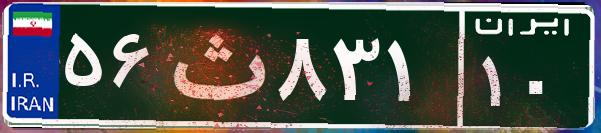0: (525, 38, 570, 115)
1: (385, 28, 445, 110), (475, 38, 525, 113)
3: (330, 28, 385, 110)
5: (57, 26, 110, 107)
6: (110, 28, 158, 105)
8: (273, 28, 330, 110)
ث: (158, 15, 273, 115)
